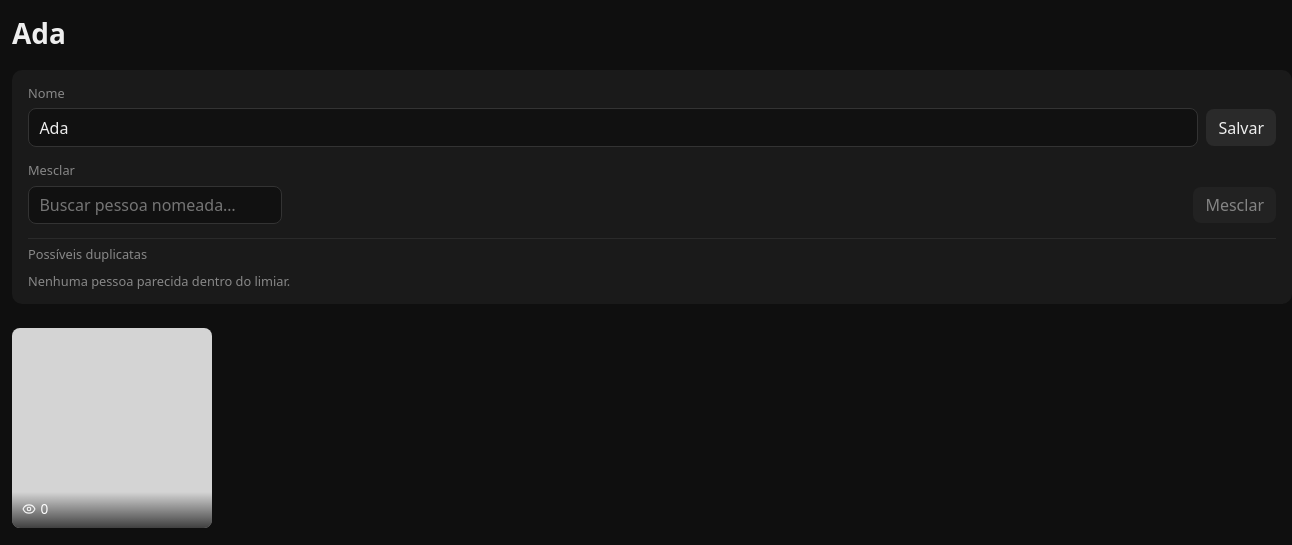
Test: PersonView › saves the person name via updatePerson
Replace the text in the field with test id "person-name-input" with "Grace Hopper" at (613, 128), box top-left (28, 108), bottom-right (1198, 147)
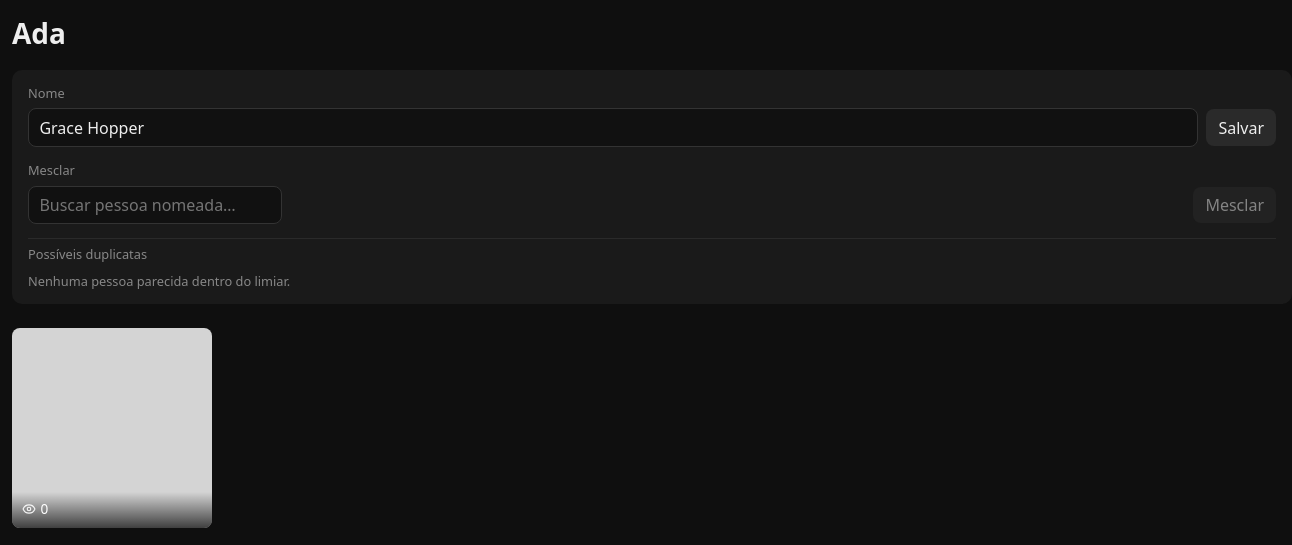
Click the button with test id "person-name-save" at (1241, 128), box top-left (1206, 109), bottom-right (1276, 146)
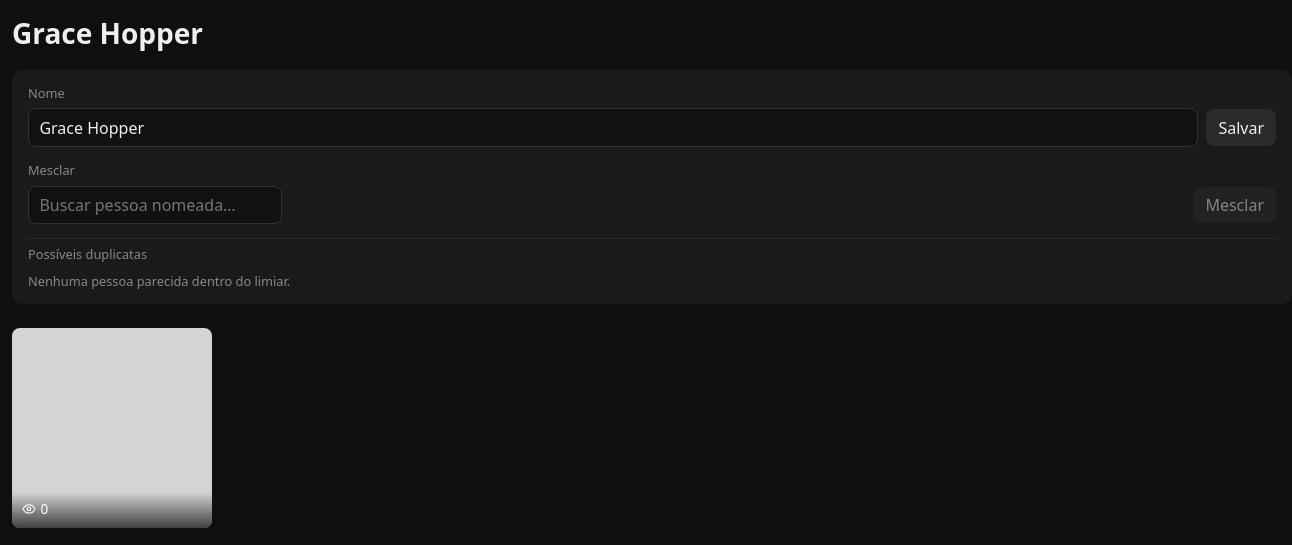
Result: the heading "Grace Hopper" is shown at top-left (12, 14), bottom-right (203, 52)
